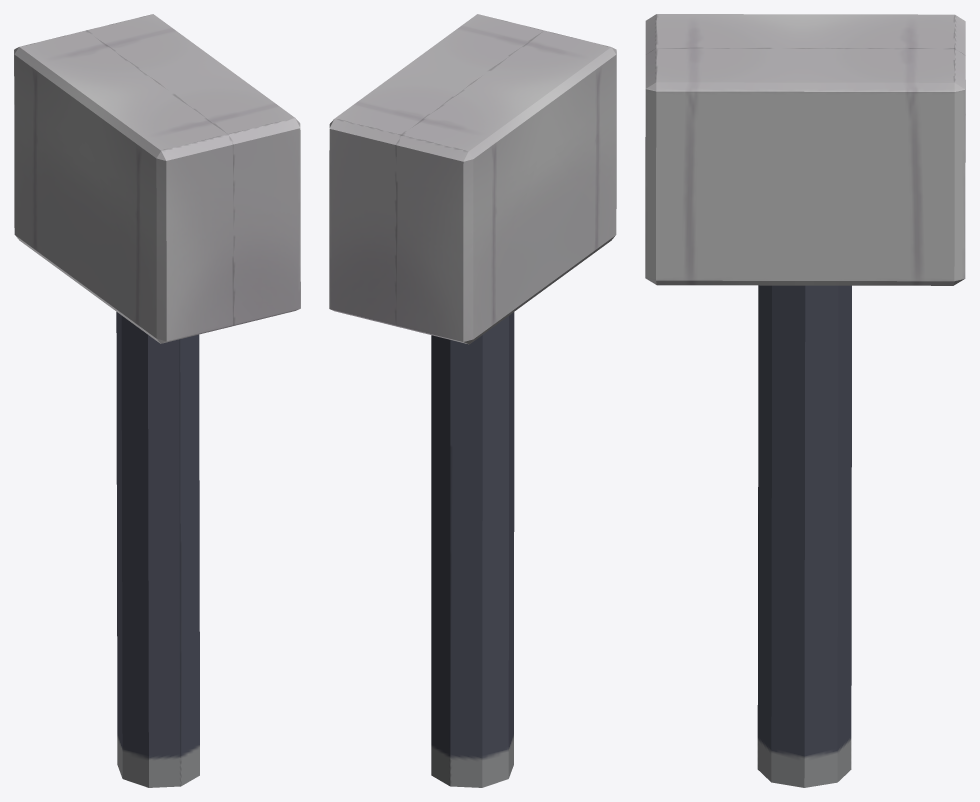
Rendered from palu Blacksmith.fbx.
3 views of the same model, side by side, from view 1: azimuth 30°, elevation 25°; view 2: azimuth 150°, elevation 25°; view 3: azimuth 270°, elevation 25° (orthographic). The views are drawn at different scales.
Parts seen in each view (by area): view 1: tools2; view 2: tools2; view 3: tools2.
Part boxes in pixels (x1=…): tools2: x1=14, y1=14, x2=300, y2=787; tools2: x1=329, y1=14, x2=616, y2=787; tools2: x1=645, y1=14, x2=965, y2=787.
Size of the model in its own units: 8.97 by 40.88 by 16.47.
1 material, 1 textured.
